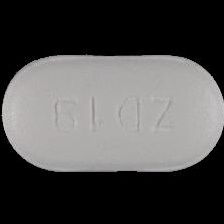68382-143: (0, 0, 224, 224)
